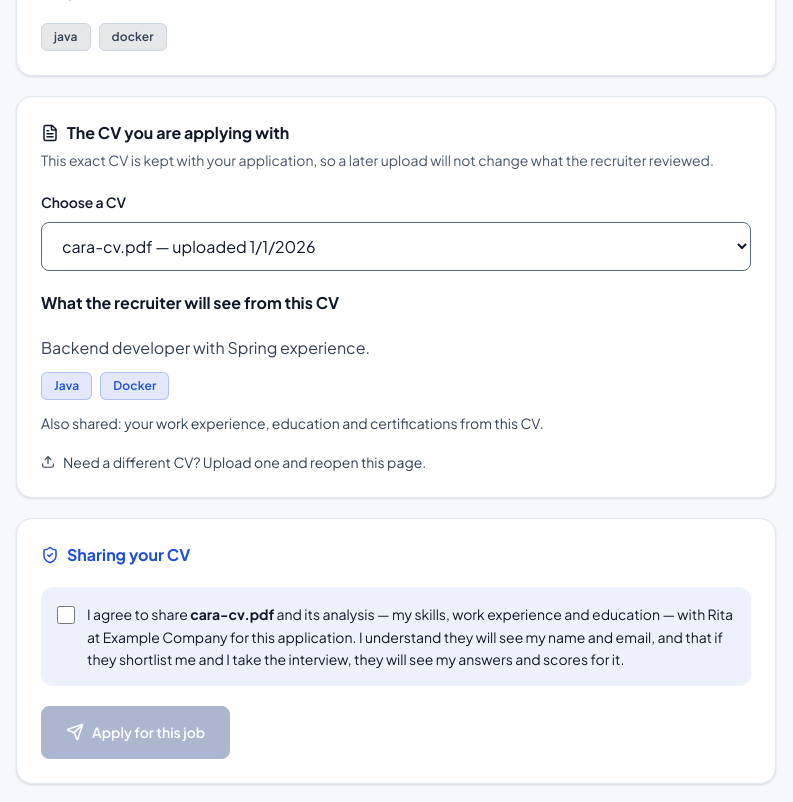
apply is disabled until consent is given
(page scrolled)
Check: the button "Apply for this job" is disabled, box [41,706,230,759]
Click the checkbox with id "consent" at (66, 615), box [57,606,75,624]
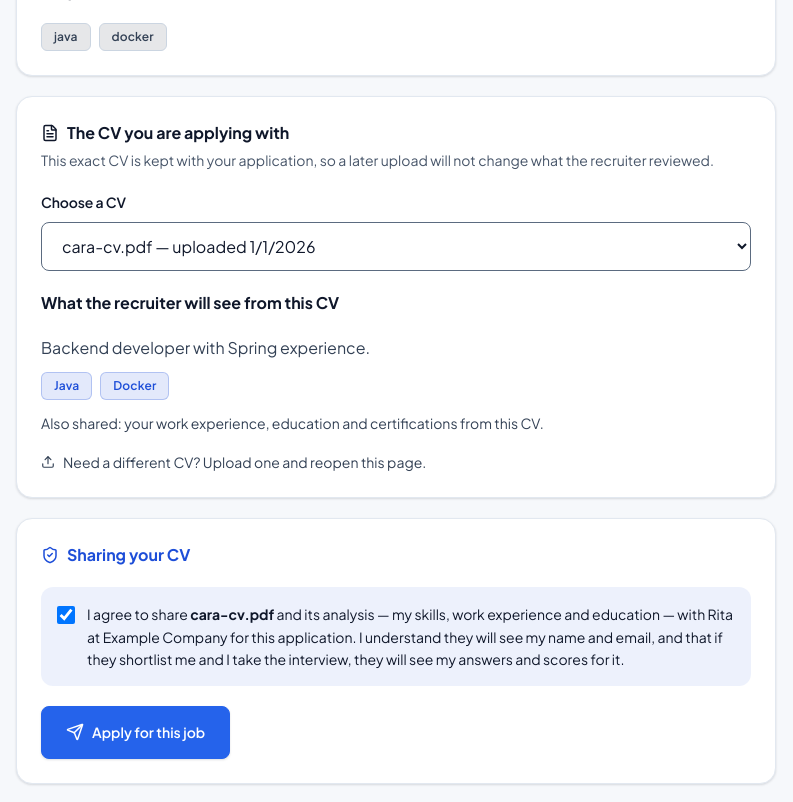
Check: the button "Apply for this job" is enabled, box [41,706,230,759]
